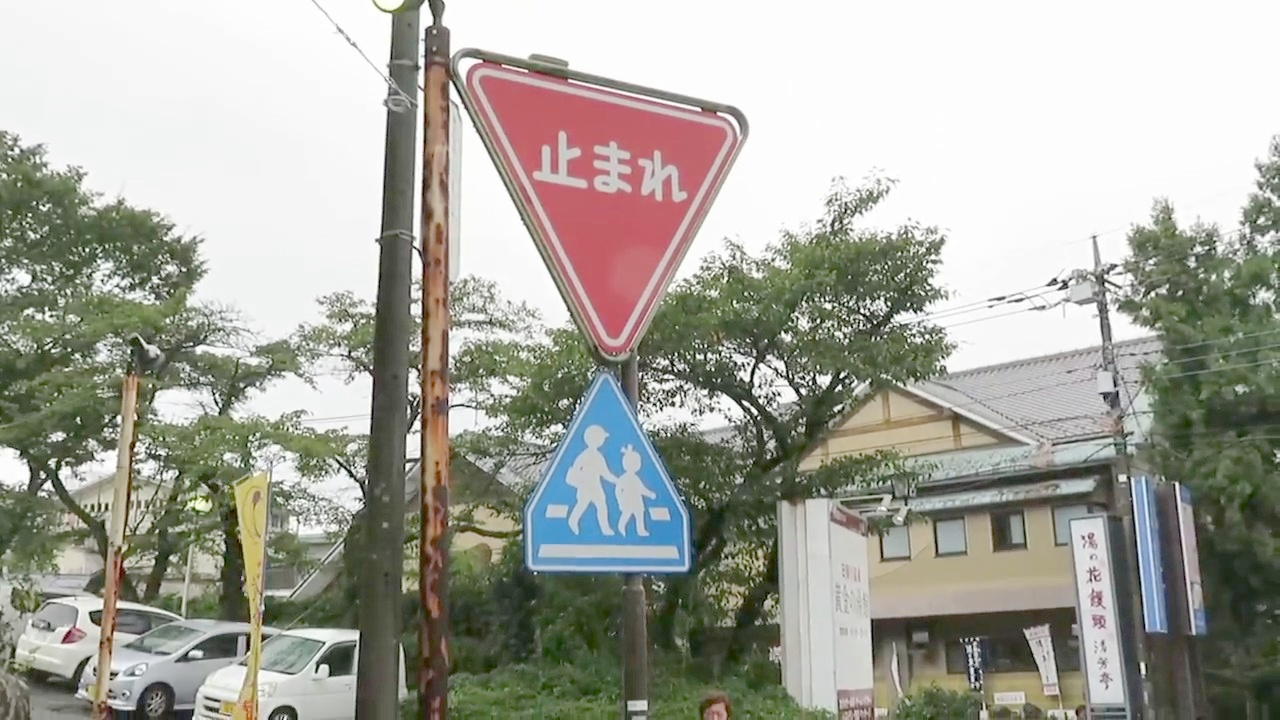Regulatory_sign_triangle: (455, 45, 760, 406)
